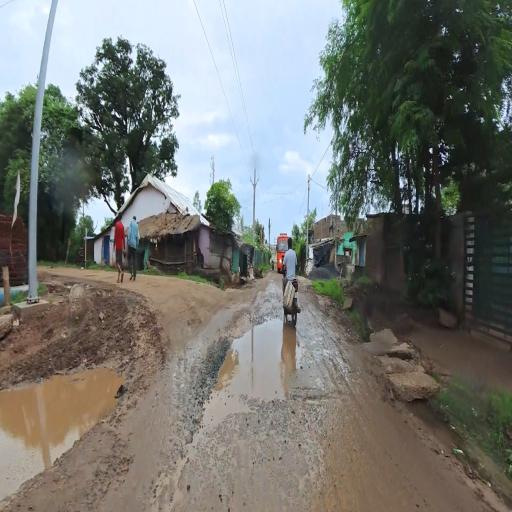drainage_issue: (384, 355, 490, 479)
pothole: (184, 292, 316, 460)
